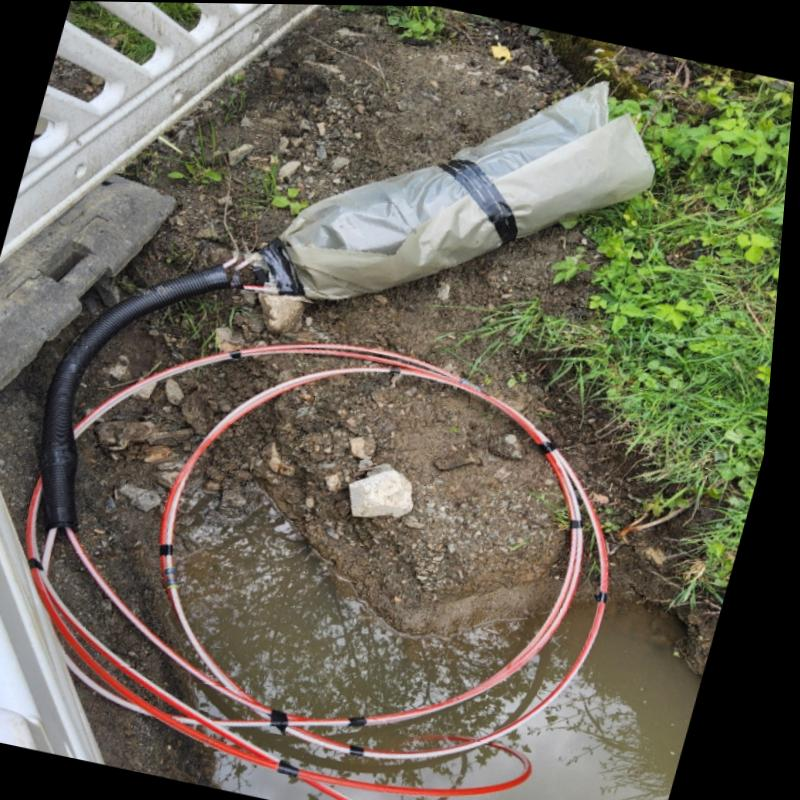NT-Muffen: (239, 76, 658, 300)
